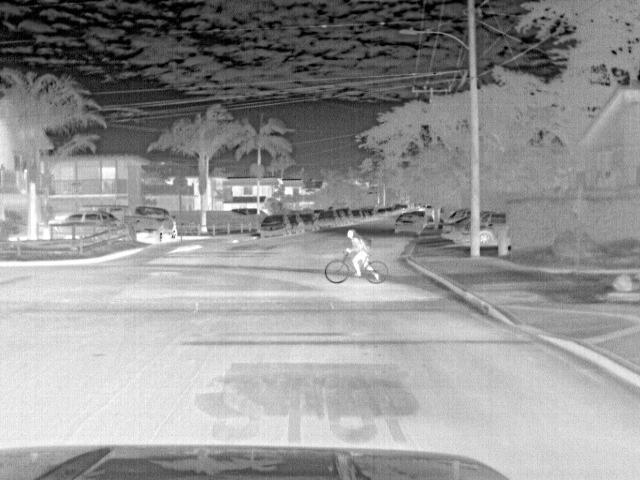car: (127, 205, 176, 242), (46, 208, 118, 222), (480, 214, 510, 246), (257, 215, 291, 239), (438, 217, 469, 242), (392, 212, 423, 236), (296, 210, 318, 234), (315, 209, 338, 230), (349, 208, 363, 229)
person: (342, 228, 382, 280)
